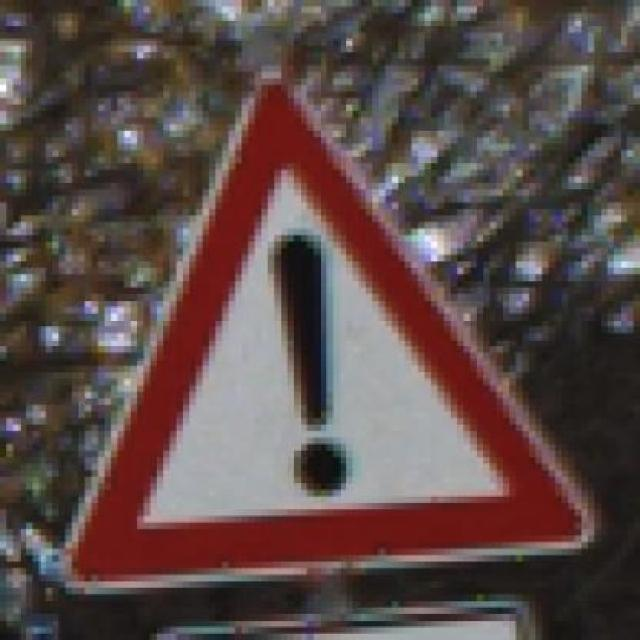Attention Please-: (59, 71, 602, 588)
